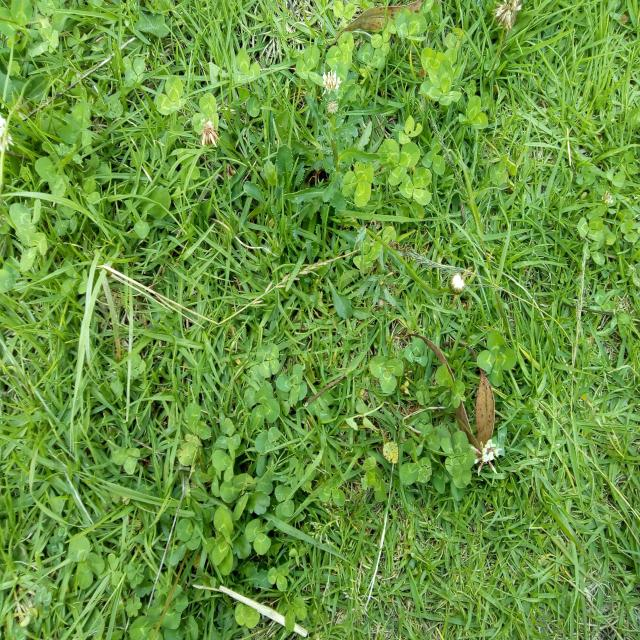Four Leaf Clover: (476, 329, 517, 387), (258, 343, 280, 378)
